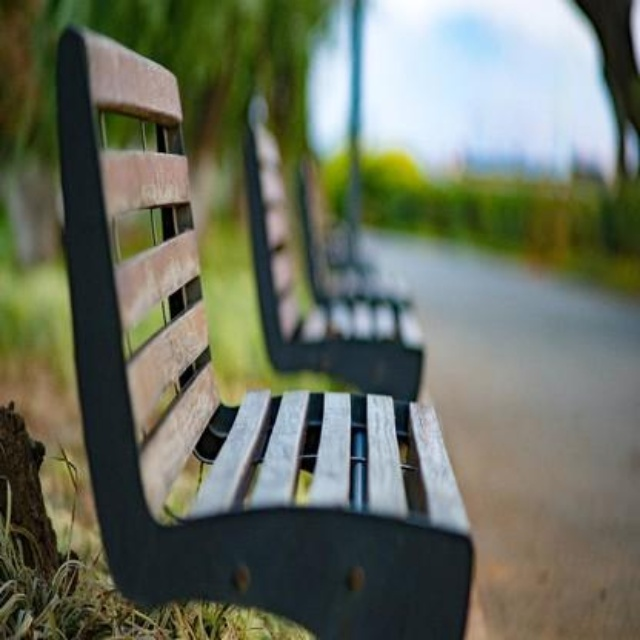obstacle: (35, 17, 483, 632)
